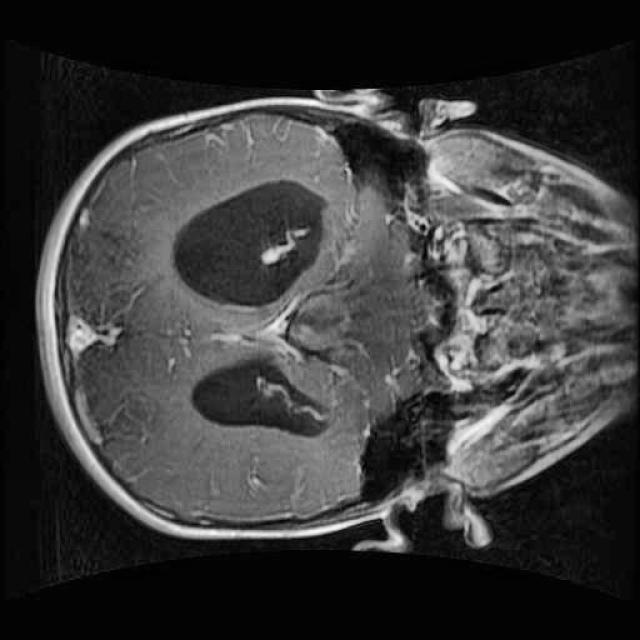Tumor: (281, 284, 375, 364)
